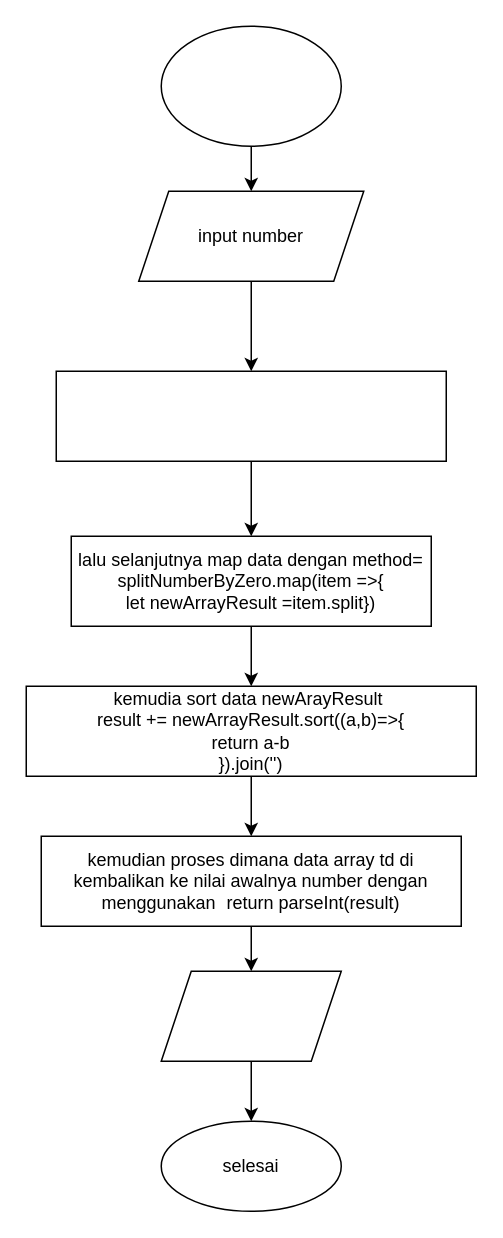
Image size: 503x1238. Some labels were removed from this diagram. Each missing label, with the centre of its shape:
"gunakan methode splitNumberByZero =number.toString().toSplit('0')" belongs at (250,415).
"Mulai" belongs at (250,85).
"output hasil" belongs at (250,1015).
